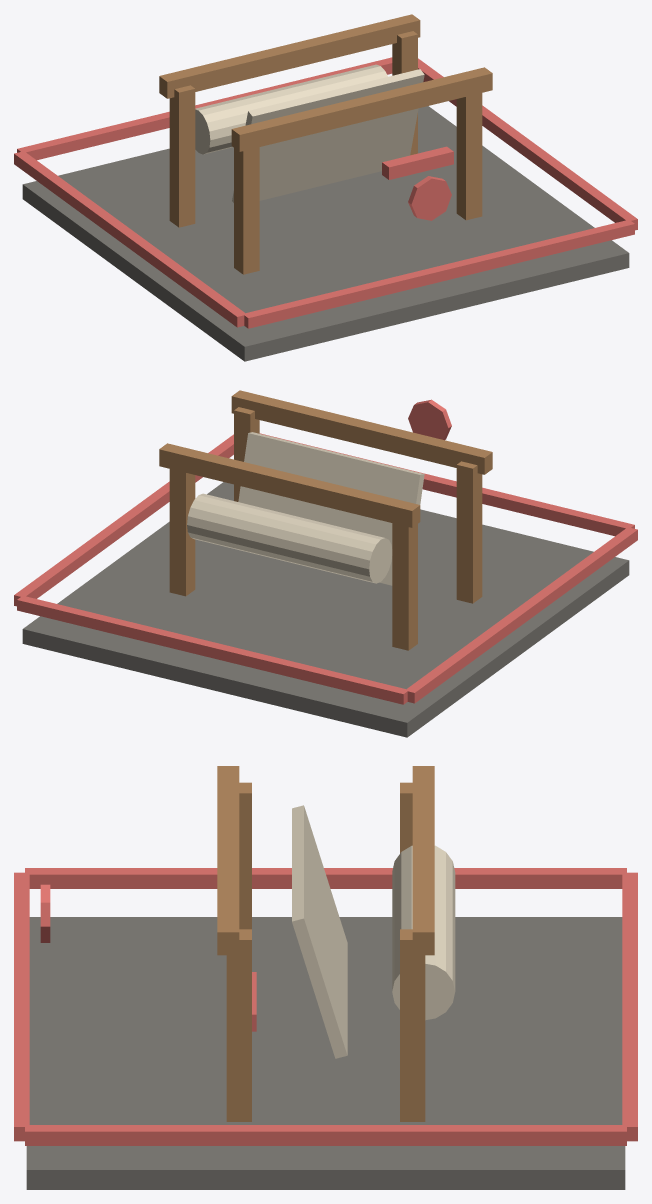
The model's file is t5_loom.glb.
3 renders of one model, top to bottom at view 1: azimuth 30°, elevation 25°; view 2: azimuth 150°, elevation 25°; view 3: azimuth 270°, elevation 25°, orthographic. The views are drawn at different scales.
Parts seen in each view (by area): view 1: FootprintBase, ClothSheet, FrontBeam, TierFrontTrim, BackBeam, TierLeftTrim, ClothRoll, FramePost.001, TierRightTrim, TierBackTrim, FramePost.002, FramePost (+3 smaller); view 2: FootprintBase, ClothRoll, ClothSheet, BackBeam, TierBackTrim, FrontBeam, TierLeftTrim, FramePost, TierRightTrim, FramePost.001, TierFrontTrim, FramePost.003 (+2 smaller); view 3: FootprintBase, TierRightTrim, TierLeftTrim, ClothSheet, ClothRoll, FramePost.002, FramePost.003, BackBeam, FrontBeam, TierBackTrim, TierFrontTrim, FramePost (+2 smaller).
Part boxes in pixels (<box>): FootprintBase: <box>22,106,629,361</box>; ClothSheet: <box>232,69,424,202</box>; FrontBeam: <box>231,67,492,151</box>; TierFrontTrim: <box>243,220,634,328</box>; BackBeam: <box>159,14,420,98</box>; TierLeftTrim: <box>14,151,245,327</box>; ClothRoll: <box>195,64,387,154</box>; FramePost.001: <box>169,85,195,227</box>; TierRightTrim: <box>418,58,637,230</box>; TierBackTrim: <box>17,57,392,160</box>; FramePost.002: <box>456,93,482,220</box>; FramePost: <box>234,147,259,274</box>; FootprintBase: <box>22,482,629,737</box>; ClothRoll: <box>187,493,392,583</box>; ClothSheet: <box>238,432,424,585</box>; BackBeam: <box>159,443,420,527</box>; TierBackTrim: <box>17,596,408,704</box>; FrontBeam: <box>231,390,492,474</box>; TierLeftTrim: <box>405,527,637,703</box>; FramePost: <box>456,461,482,603</box>; TierRightTrim: <box>14,434,233,606</box>; FramePost.001: <box>392,523,417,650</box>; TierFrontTrim: <box>259,433,634,536</box>; FramePost.003: <box>169,469,195,596</box>; FootprintBase: <box>26,917,625,1189</box>; TierRightTrim: <box>25,1125,626,1145</box>; TierLeftTrim: <box>25,868,626,888</box>; ClothSheet: <box>292,805,347,1058</box>; ClothRoll: <box>392,845,455,1020</box>; FramePost.002: <box>226,929,251,1121</box>; FramePost.003: <box>400,929,425,1121</box>; BackBeam: <box>412,766,434,955</box>; FrontBeam: <box>217,766,239,955</box>; TierBackTrim: <box>622,872,637,1141</box>; TierFrontTrim: <box>14,872,29,1141</box>; FramePost: <box>239,782,251,929</box>.
Bounding box in the file's own units: 3.96 × 1.5 × 3.96.
